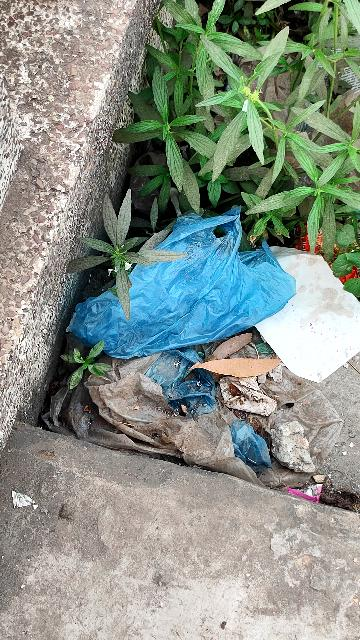polythene: (111, 204, 280, 364)
